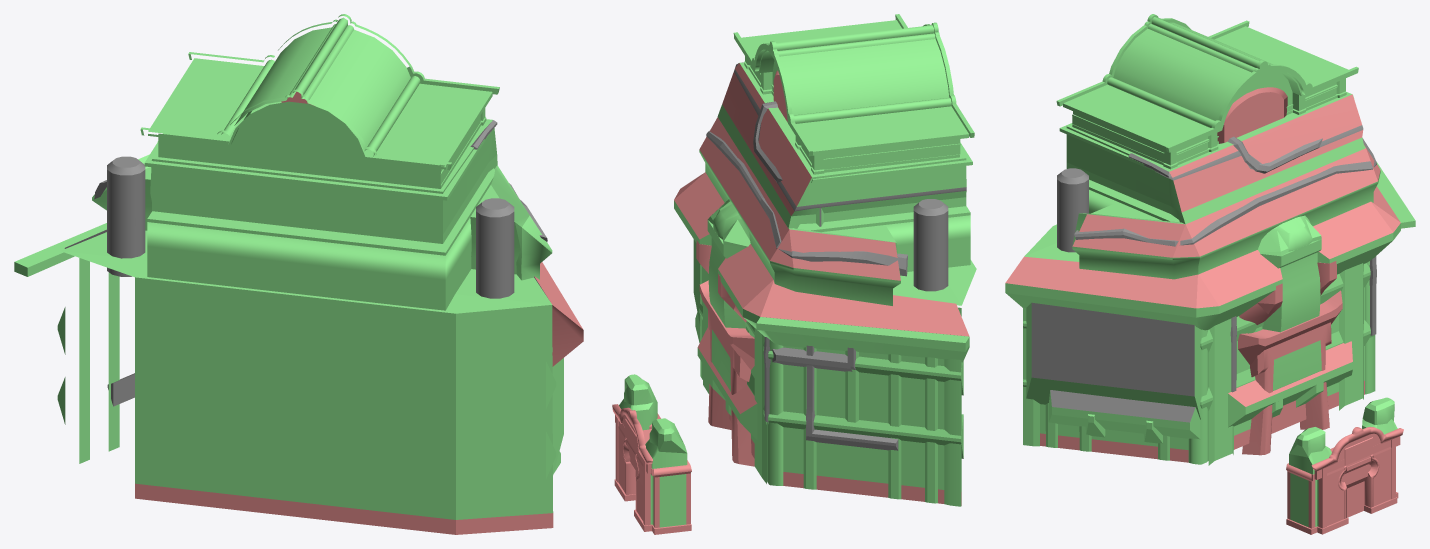
The model's file is COL_SM_ENV_KNVLLG03_AreaB_BuildingA.gltf.
3 views of the same model, side by side, from view 1: azimuth 30°, elevation 25°; view 2: azimuth 150°, elevation 25°; view 3: azimuth 270°, elevation 25° (orthographic). The views are drawn at different scales.
Visible parts, largest first — view 1: COL_SM_ENV_KNVLLG03_AreaB_BuildingA; view 2: COL_SM_ENV_KNVLLG03_AreaB_BuildingA; view 3: COL_SM_ENV_KNVLLG03_AreaB_BuildingA.
Part boxes in pixels (x1,y1,x2,y2): COL_SM_ENV_KNVLLG03_AreaB_BuildingA: [14, 14, 583, 534]; COL_SM_ENV_KNVLLG03_AreaB_BuildingA: [612, 14, 976, 534]; COL_SM_ENV_KNVLLG03_AreaB_BuildingA: [1005, 14, 1415, 534].
Size of the model in its own units: 36.47 by 41.57 by 37.11.
